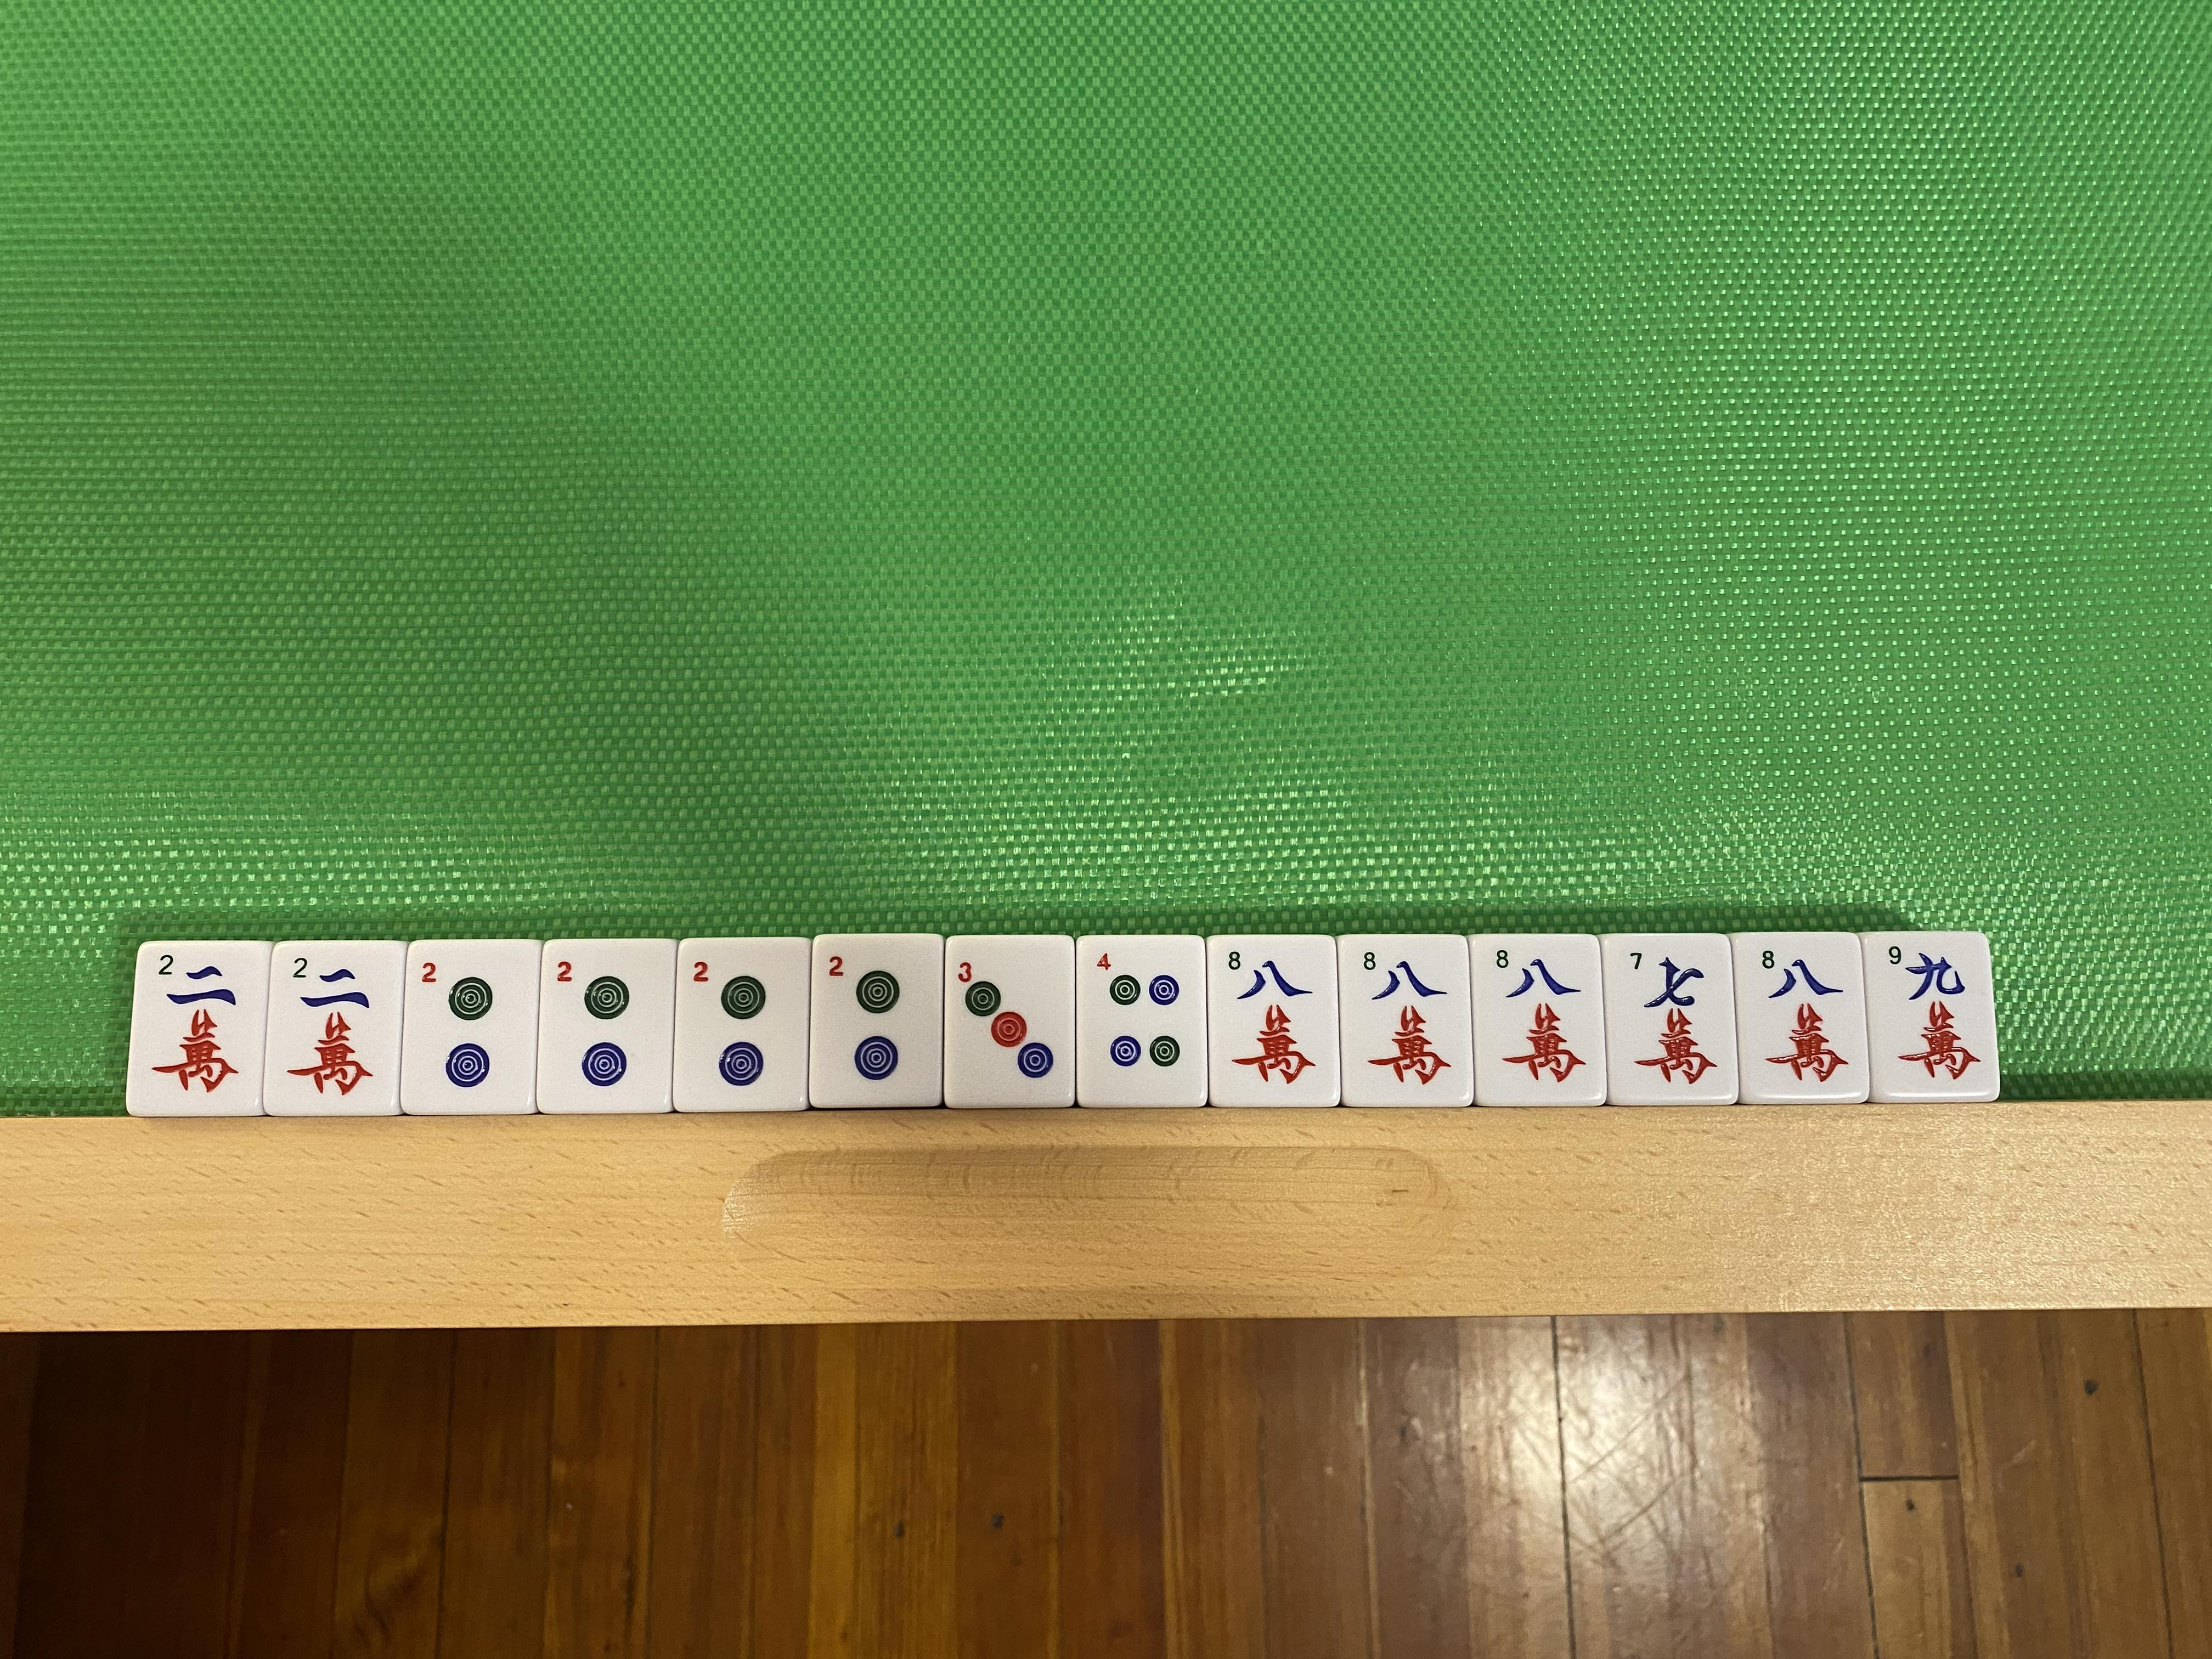character-eight: (1346, 941, 1467, 1101), (1219, 946, 1325, 1100), (1747, 943, 1855, 1093), (1489, 945, 1592, 1089)
character-nine: (1876, 941, 1979, 1093)
character-seven: (1609, 943, 1730, 1094)
character-two: (275, 953, 387, 1110), (143, 950, 249, 1103)
circle-four: (1087, 946, 1198, 1098)
circle-three: (951, 950, 1066, 1094)
circle-two: (683, 945, 801, 1098), (545, 948, 660, 1103), (820, 946, 928, 1094), (413, 953, 523, 1096)
